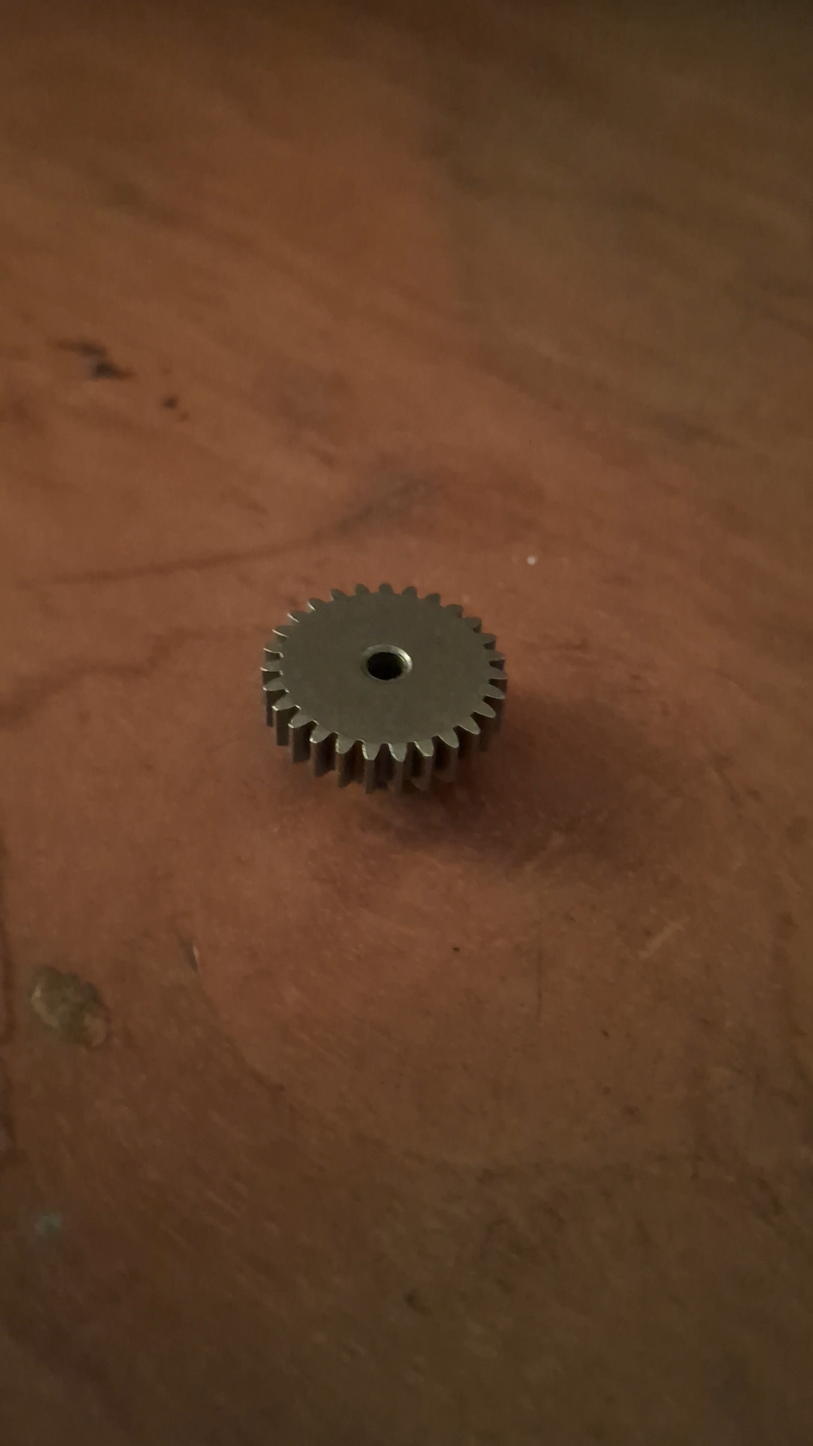spur gear: (262, 584, 506, 792)
